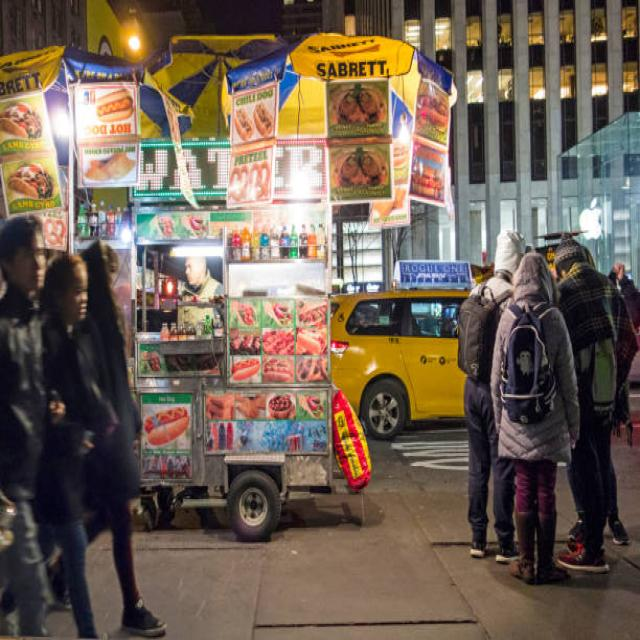Emperan: (0, 0, 494, 613)
